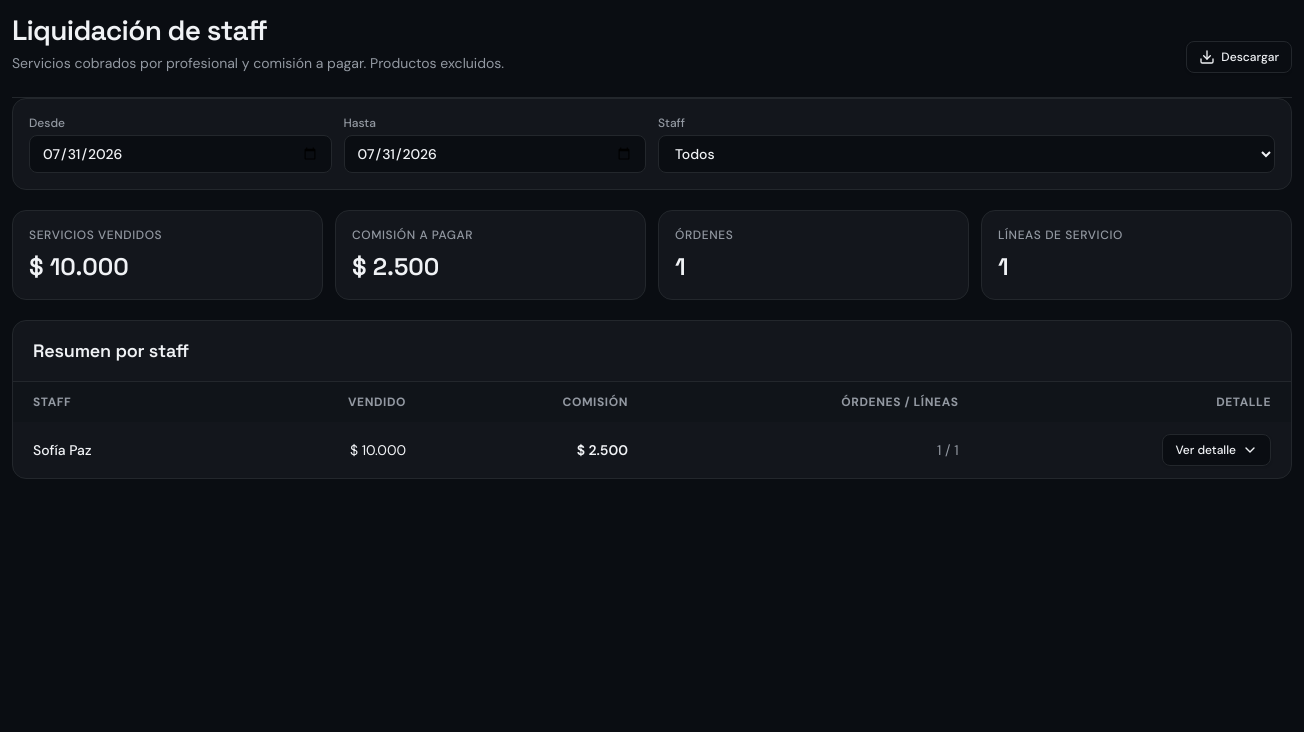
Test: StaffLiquidationsView › defaults to Todos and renders summary/detail grouped by day
This screenshot has width=1304, height=732.
Expected: the dropdown labelled "Staff" shows "Todos", [658,135,1275,173]
Expected: the text "$ 10.000" is shown, [29,251,129,282]
Click the button "Ver detalle".
click(1217, 450)  # box [1162,434,1271,466]
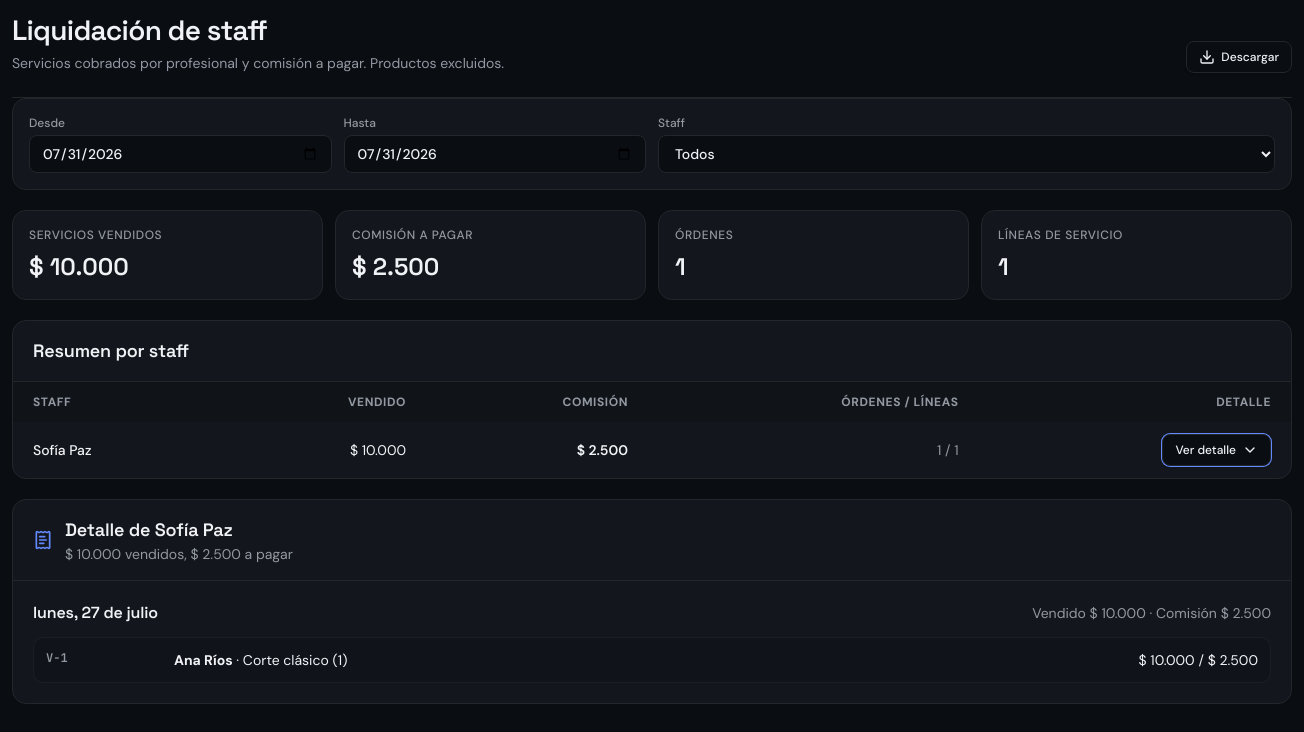
Expected: the heading "Detalle de Sofía Paz" is shown, [65,518,233,541]
Expected: the heading "lunes, 27 de julio" is shown, [33,601,158,625]
Expected: the text "Ana Ríos · Corte clásico (1)" is shown, [174,651,347,669]
